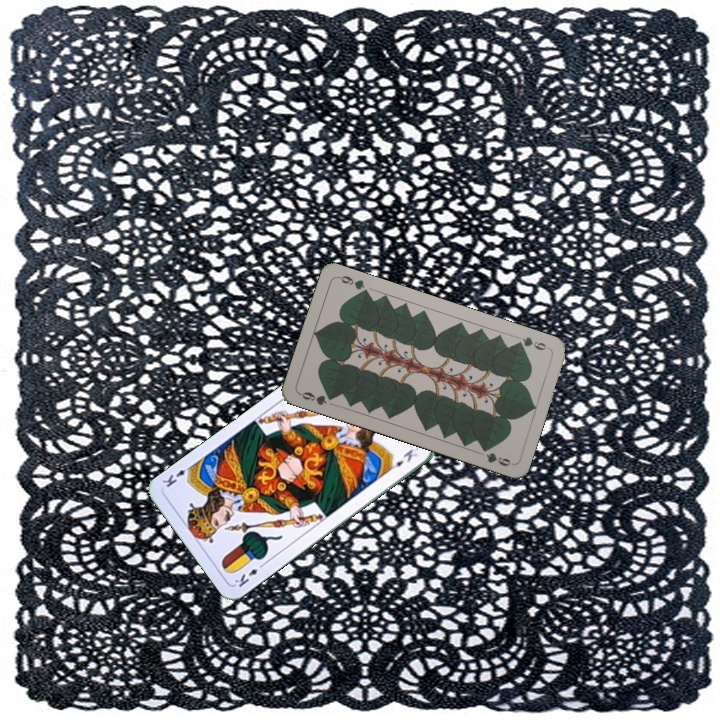EK: (230, 559, 267, 590)
G9: (295, 388, 337, 408), (511, 333, 552, 353)
